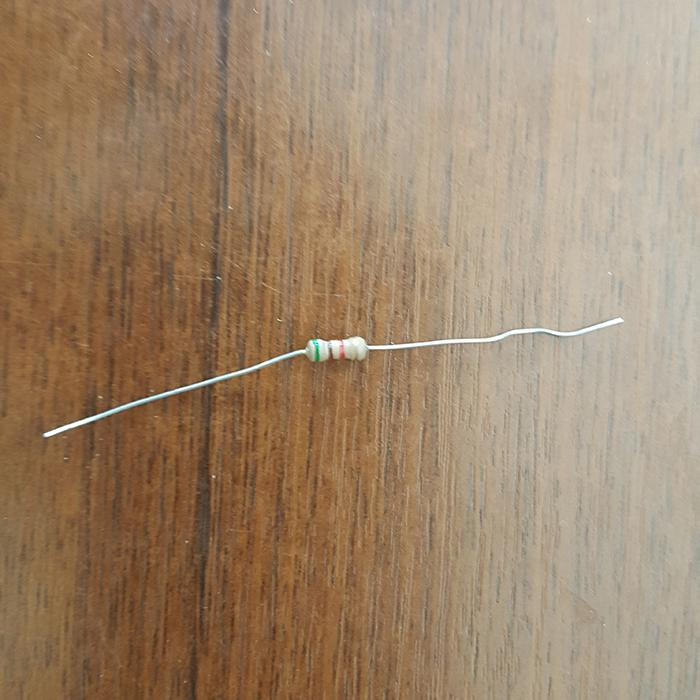resistor: (304, 335, 369, 362)
